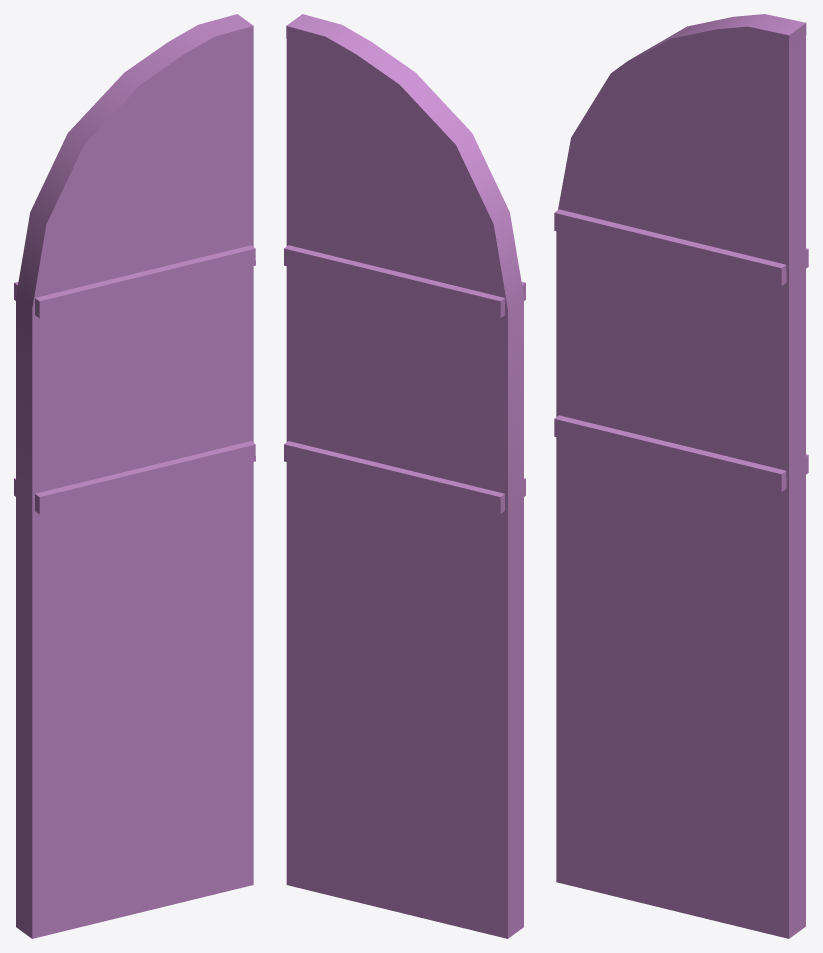
File: Gate_Fr_Side1.fbx
3 renders of one model, left to right at view 1: azimuth 30°, elevation 25°; view 2: azimuth 150°, elevation 25°; view 3: azimuth 330°, elevation 25°, orthographic. The views are drawn at different scales.
Visible parts, largest first — view 1: Gate_Fr_Side1; view 2: Gate_Fr_Side1; view 3: Gate_Fr_Side1.
Boxes of the visible parts, x1,y1,x2,y2 form: Gate_Fr_Side1: (14,14,255,938); Gate_Fr_Side1: (284,14,525,938); Gate_Fr_Side1: (554,14,808,938).
Bounding box in the file's own units: 201 × 746 × 40.
